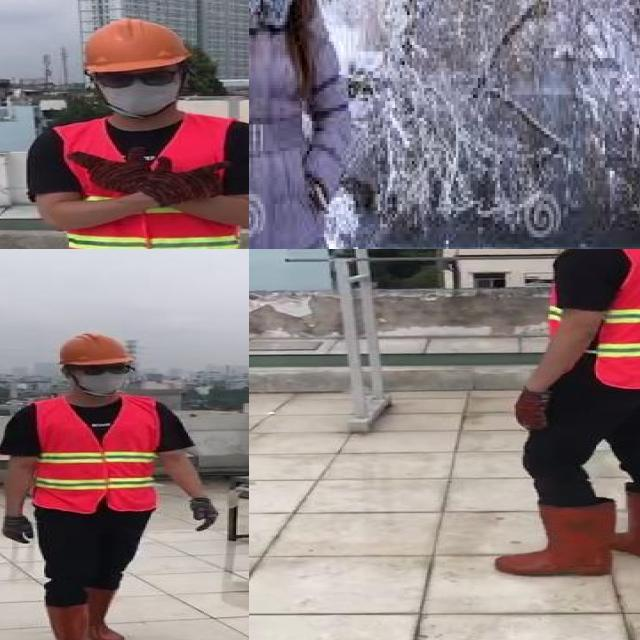boots: (493, 503, 617, 575), (84, 588, 129, 640), (42, 605, 99, 640), (620, 492, 640, 562)
face_mask: (484, 249, 640, 580), (84, 65, 186, 115), (77, 361, 130, 394)
glasses: (87, 64, 186, 91), (72, 361, 133, 377)
hand_glove: (65, 149, 149, 192), (151, 156, 225, 203), (514, 388, 550, 432), (188, 496, 220, 532), (0, 516, 35, 542)
head_helmet: (68, 14, 202, 76), (55, 330, 138, 368)
person: (0, 322, 232, 640), (24, 18, 249, 249), (249, 0, 340, 249)
vest: (45, 117, 243, 249), (33, 392, 163, 512), (551, 249, 640, 388)
